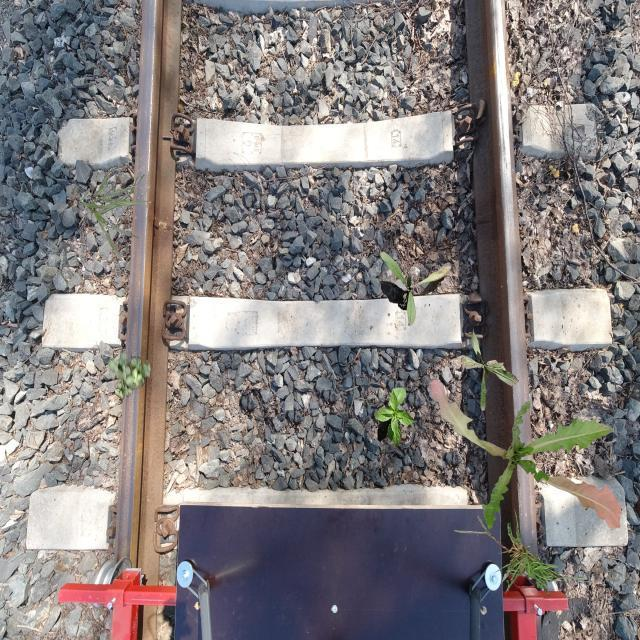Plant: (430, 379, 622, 531), (454, 507, 598, 597), (78, 167, 151, 260), (456, 327, 520, 411), (380, 252, 452, 326), (375, 388, 417, 448), (107, 350, 150, 400)
